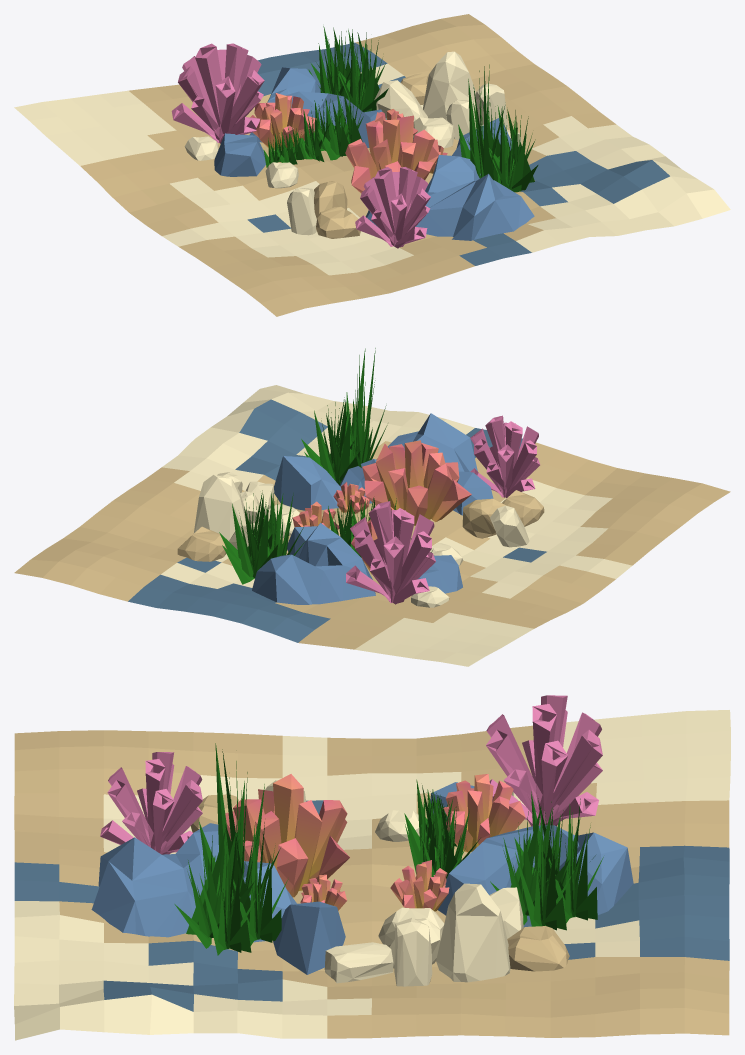
File: OceanBottom.gltf
The picture shows the model from 3 angles, top to bottom: view 1: azimuth 30°, elevation 25°; view 2: azimuth 150°, elevation 25°; view 3: azimuth 270°, elevation 25°; orthographic projection. The views are drawn at different scales.
Visible parts, largest first — view 1: Ground02_blue.001, Stone_collection01.001, Torus.016, Torus.015, Cylinder.015, Cylinder.017, Cube.035, Cube.049, Cube.052, Cube.048, Cube.038, Cube.061 (+15 smaller); view 2: Ground02_blue.001, Stone_collection01.001, Torus.016, Cylinder.015, Torus.015, Cube.035, Cube.049, Cube.047, Cube.051, Cube.039, Cube.060, Cube.061 (+8 smaller); view 3: Ground02_blue.001, Stone_collection01.001, Torus.016, Cylinder.015, Torus.015, Cube.035, Cylinder.017, Cube.049, Cube.050, Cube.052, Cube.046, Cube.031 (+16 smaller).
Part boxes in pixels (left/top/right/bottom): Ground02_blue.001: left=14, top=14, right=730, bottom=316; Stone_collection01.001: left=214, top=67, right=534, bottom=240; Torus.016: left=171, top=43, right=264, bottom=143; Torus.015: left=355, top=167, right=430, bottom=248; Cylinder.015: left=345, top=115, right=439, bottom=193; Cylinder.017: left=250, top=93, right=316, bottom=149; Cube.035: left=423, top=51, right=476, bottom=120; Cube.049: left=458, top=64, right=505, bottom=180; Cube.052: left=488, top=106, right=538, bottom=192; Cube.048: left=338, top=29, right=388, bottom=112; Cube.038: left=374, top=80, right=427, bottom=121; Cube.061: left=287, top=188, right=316, bottom=235; Ground02_blue.001: left=14, top=385, right=730, bottom=666; Stone_collection01.001: left=252, top=413, right=493, bottom=604; Torus.016: left=346, top=501, right=435, bottom=604; Cylinder.015: left=362, top=440, right=471, bottom=525; Torus.015: left=470, top=415, right=540, bottom=498; Cube.035: left=193, top=474, right=246, bottom=540; Cube.049: left=345, top=348, right=387, bottom=467; Cube.047: left=222, top=502, right=277, bottom=584; Cube.051: left=304, top=408, right=360, bottom=485; Cube.039: left=177, top=526, right=226, bottom=561; Cube.060: left=462, top=498, right=505, bottom=538; Cube.061: left=490, top=505, right=529, bottom=547; Ground02_blue.001: left=14, top=710, right=730, bottom=1040; Stone_collection01.001: left=91, top=782, right=633, bottom=974; Torus.016: left=486, top=695, right=602, bottom=826; Cylinder.015: left=225, top=774, right=349, bottom=897; Torus.015: left=100, top=752, right=202, bottom=854; Cube.035: left=436, top=883, right=510, bottom=982; Cylinder.017: left=443, top=774, right=525, bottom=852; Cube.049: left=199, top=743, right=280, bottom=923; Cube.050: left=200, top=829, right=260, bottom=955; Cube.052: left=174, top=829, right=254, bottom=948; Cube.046: left=515, top=809, right=576, bottom=930; Cube.031: left=394, top=918, right=432, bottom=986.
Size of the model in its own units: 14.04 by 4.58 by 14.04.
Materials: 7 (1 with a texture image).
